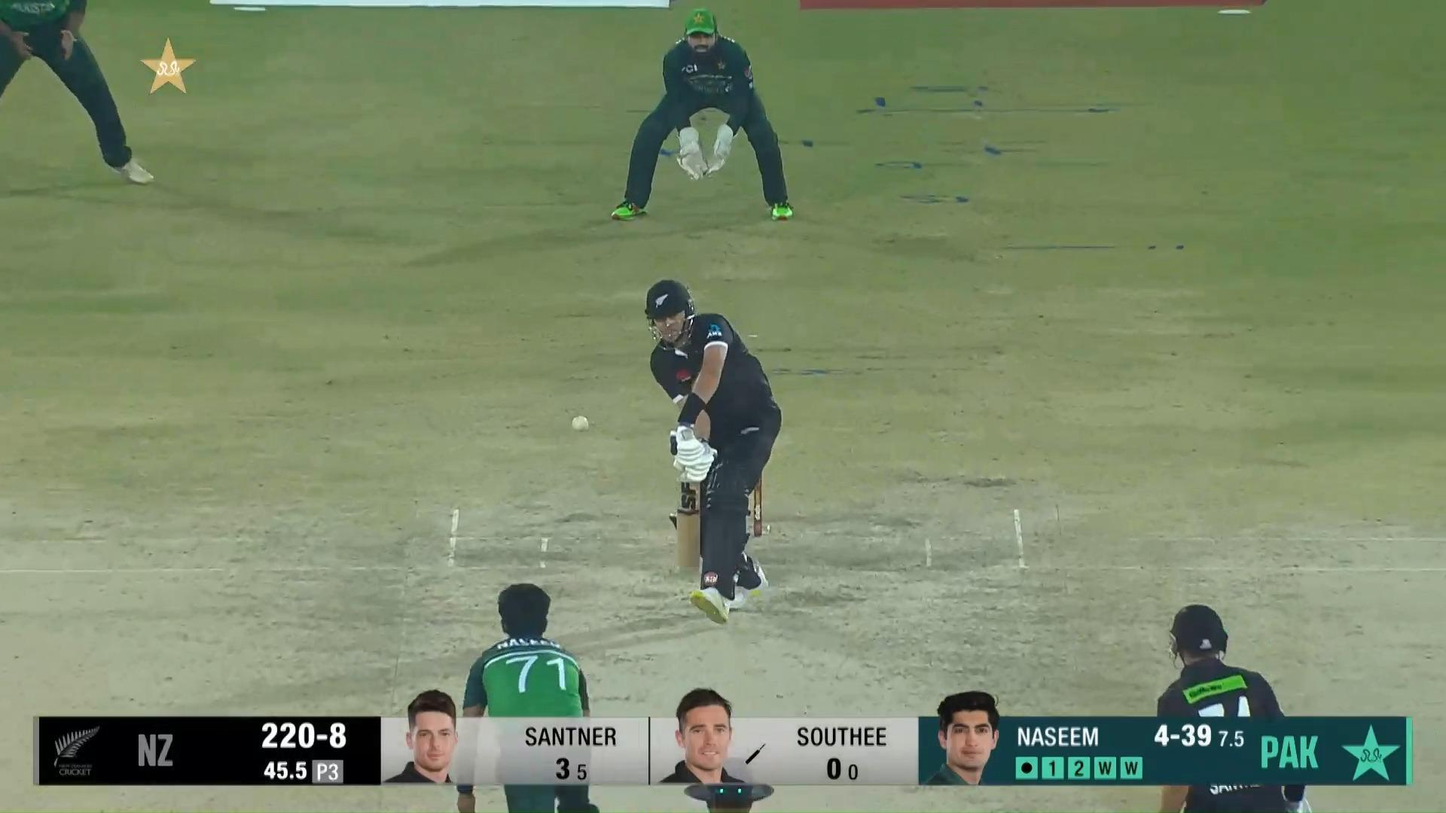BM 1: (644, 279, 784, 626)
BO: (454, 581, 604, 813)
